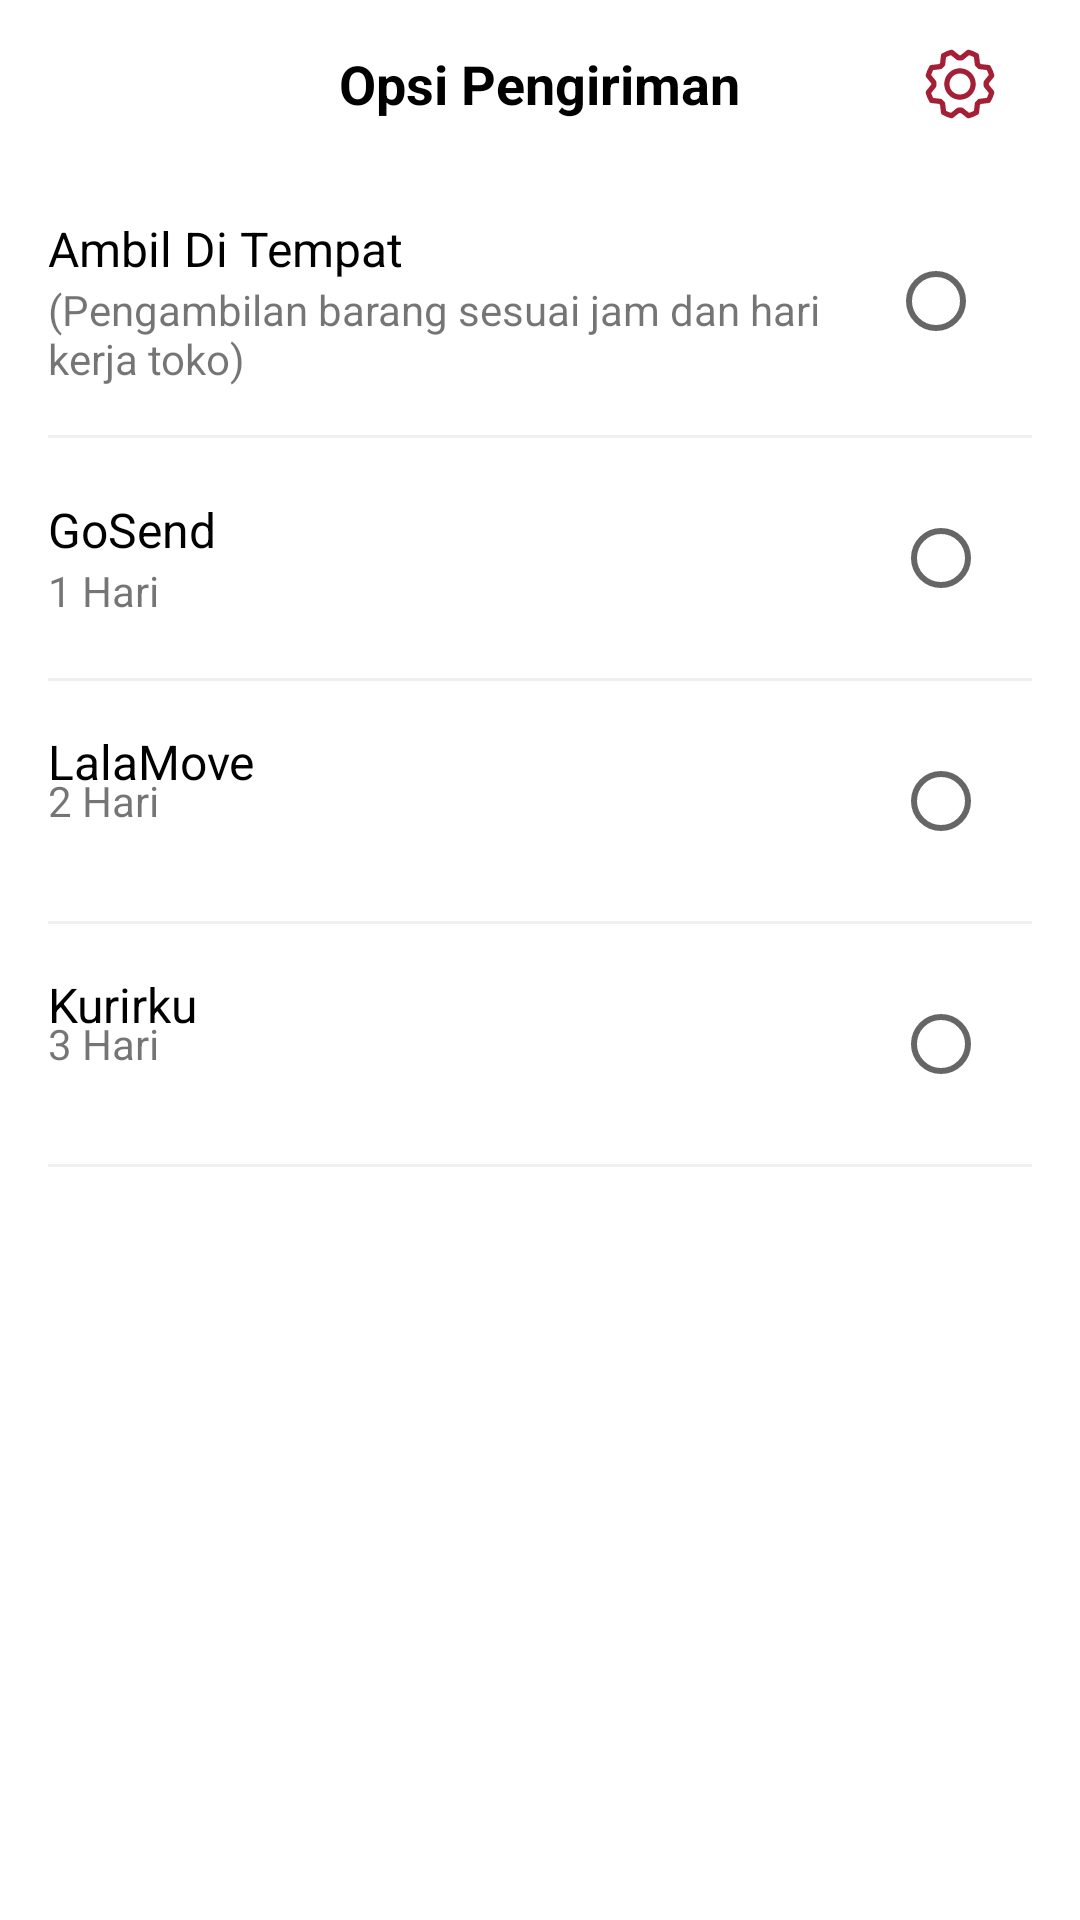

Named icons in this screenshot (1080w x 1920h) and their centers, (x,y):
setting: (960,84)
